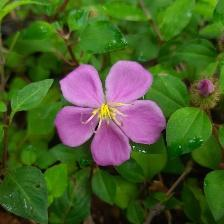malabar melastome: (54, 61, 168, 171)
